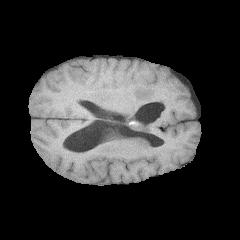glioma: (126, 86, 164, 132)
